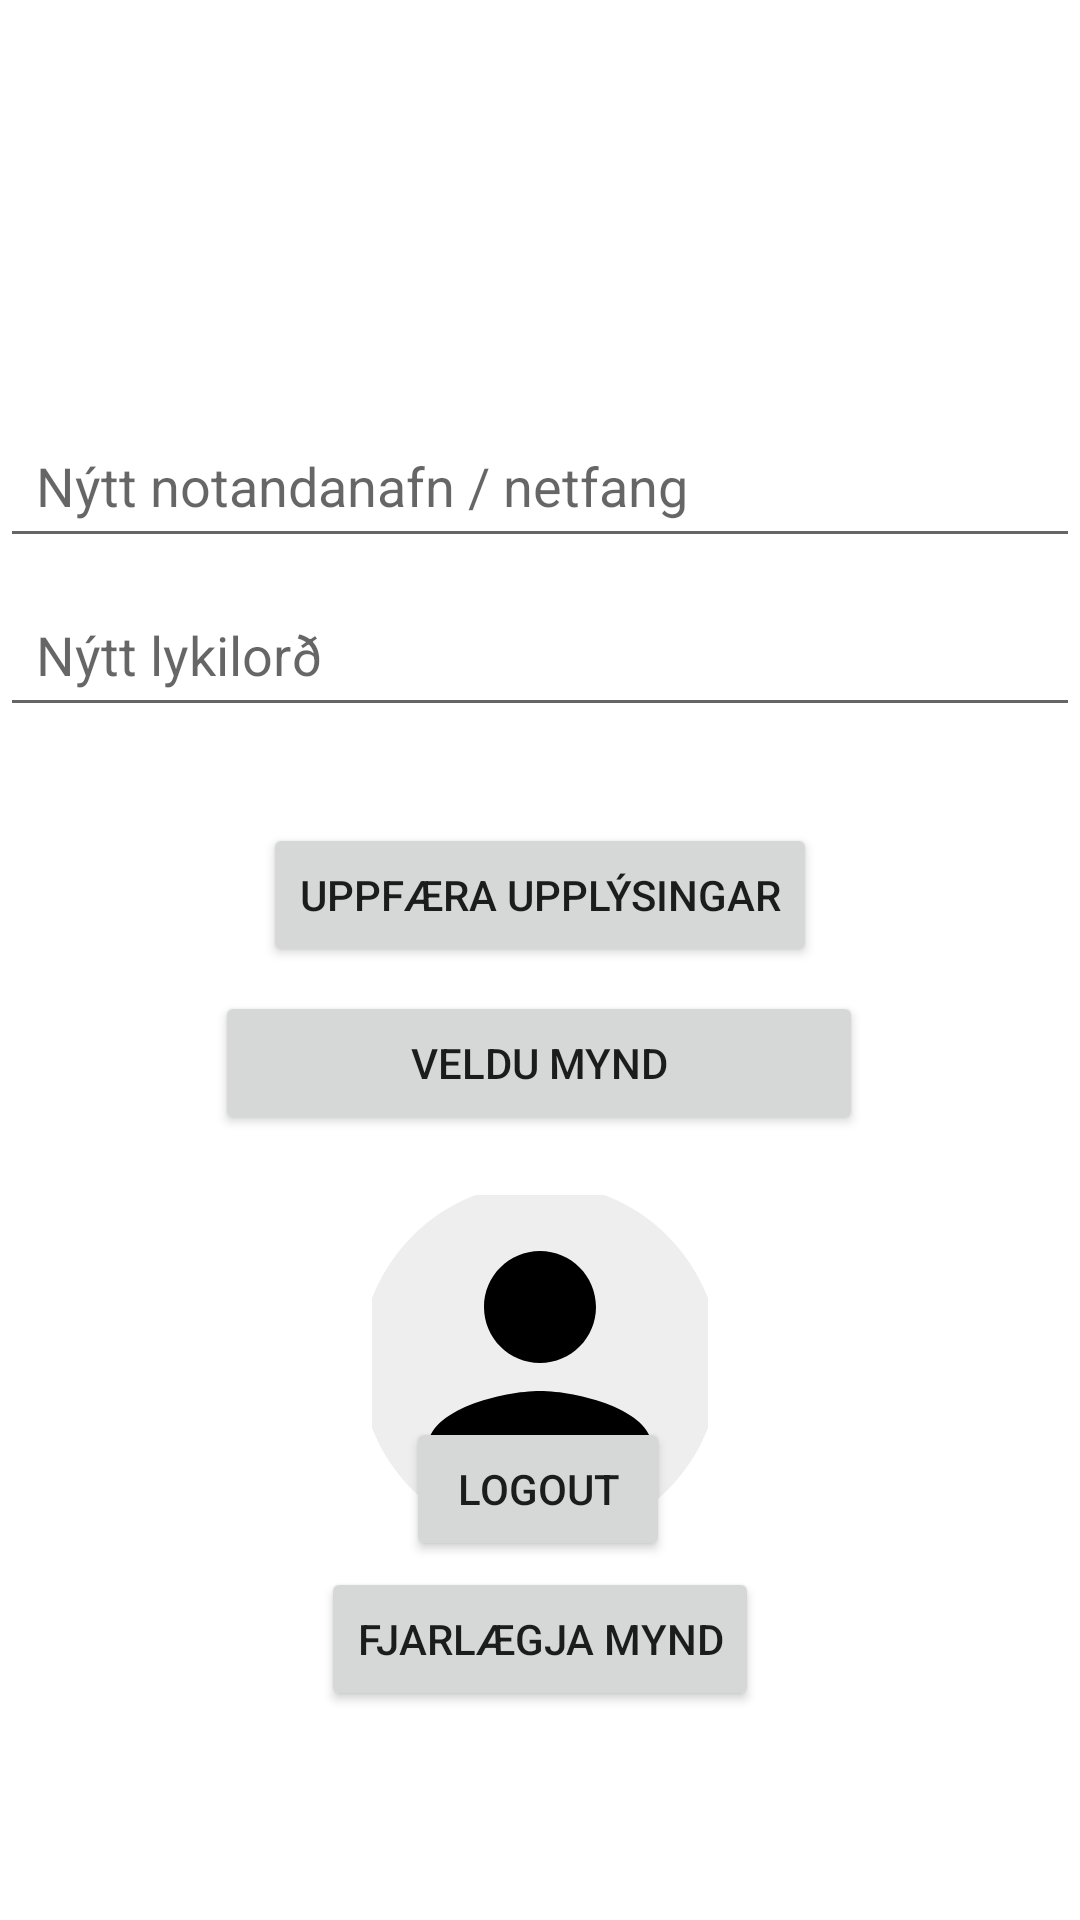

Screen size 1080×1920. Icon name, then its box in pixels as (x1, y1, x2, y2):
person: (414, 1251, 662, 1543)
